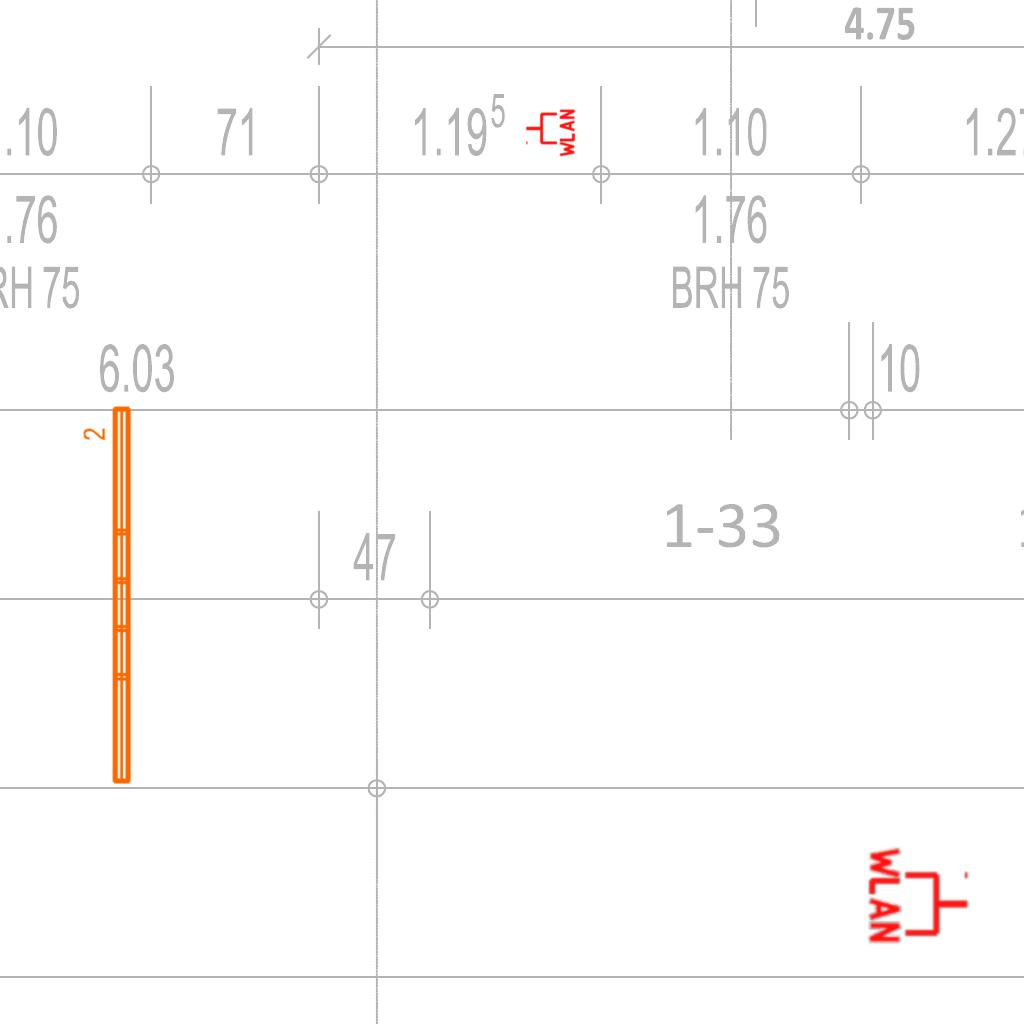Ambulanz_Pendelleuchte_LED: (81, 402, 137, 789)
WLAN: (867, 843, 972, 947), (524, 107, 576, 159)
